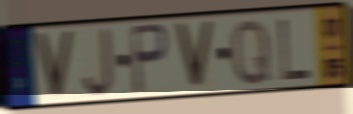J: (81, 25, 115, 99)
L: (276, 17, 313, 84)
P: (128, 21, 170, 98)
Q: (230, 16, 273, 89)
V: (172, 20, 216, 92), (33, 30, 76, 101)
